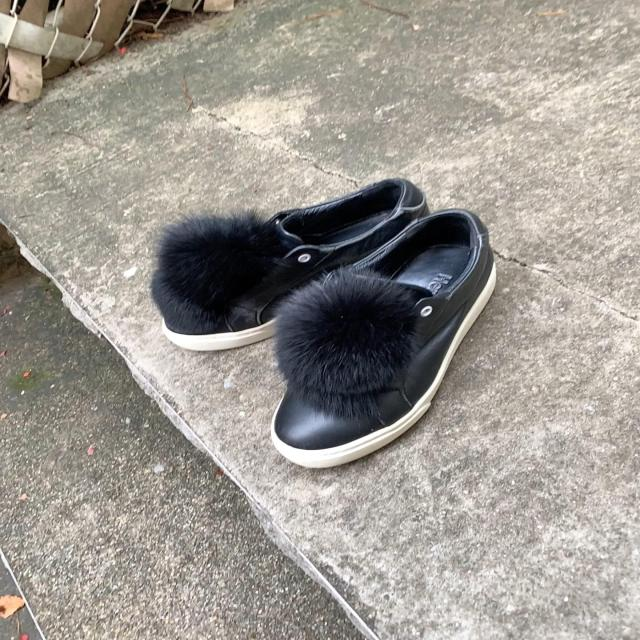shoe: (273, 208, 493, 463), (152, 180, 432, 351)
